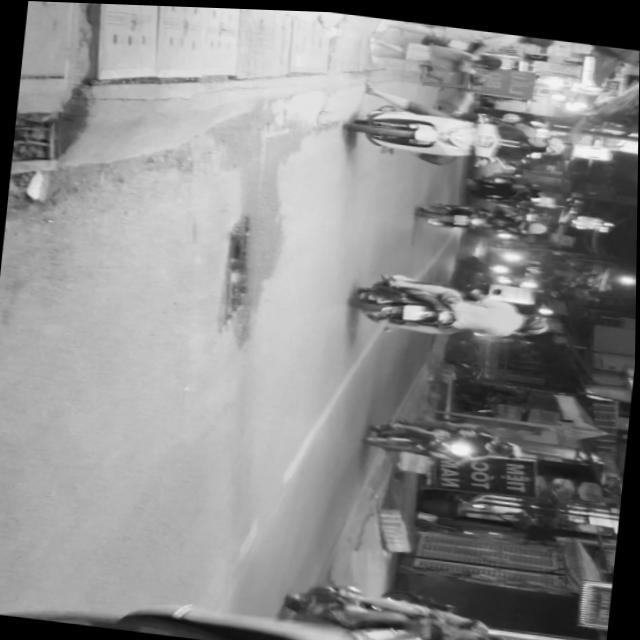helmet: (530, 130, 568, 155)
licenseplate: (344, 88, 573, 179)
